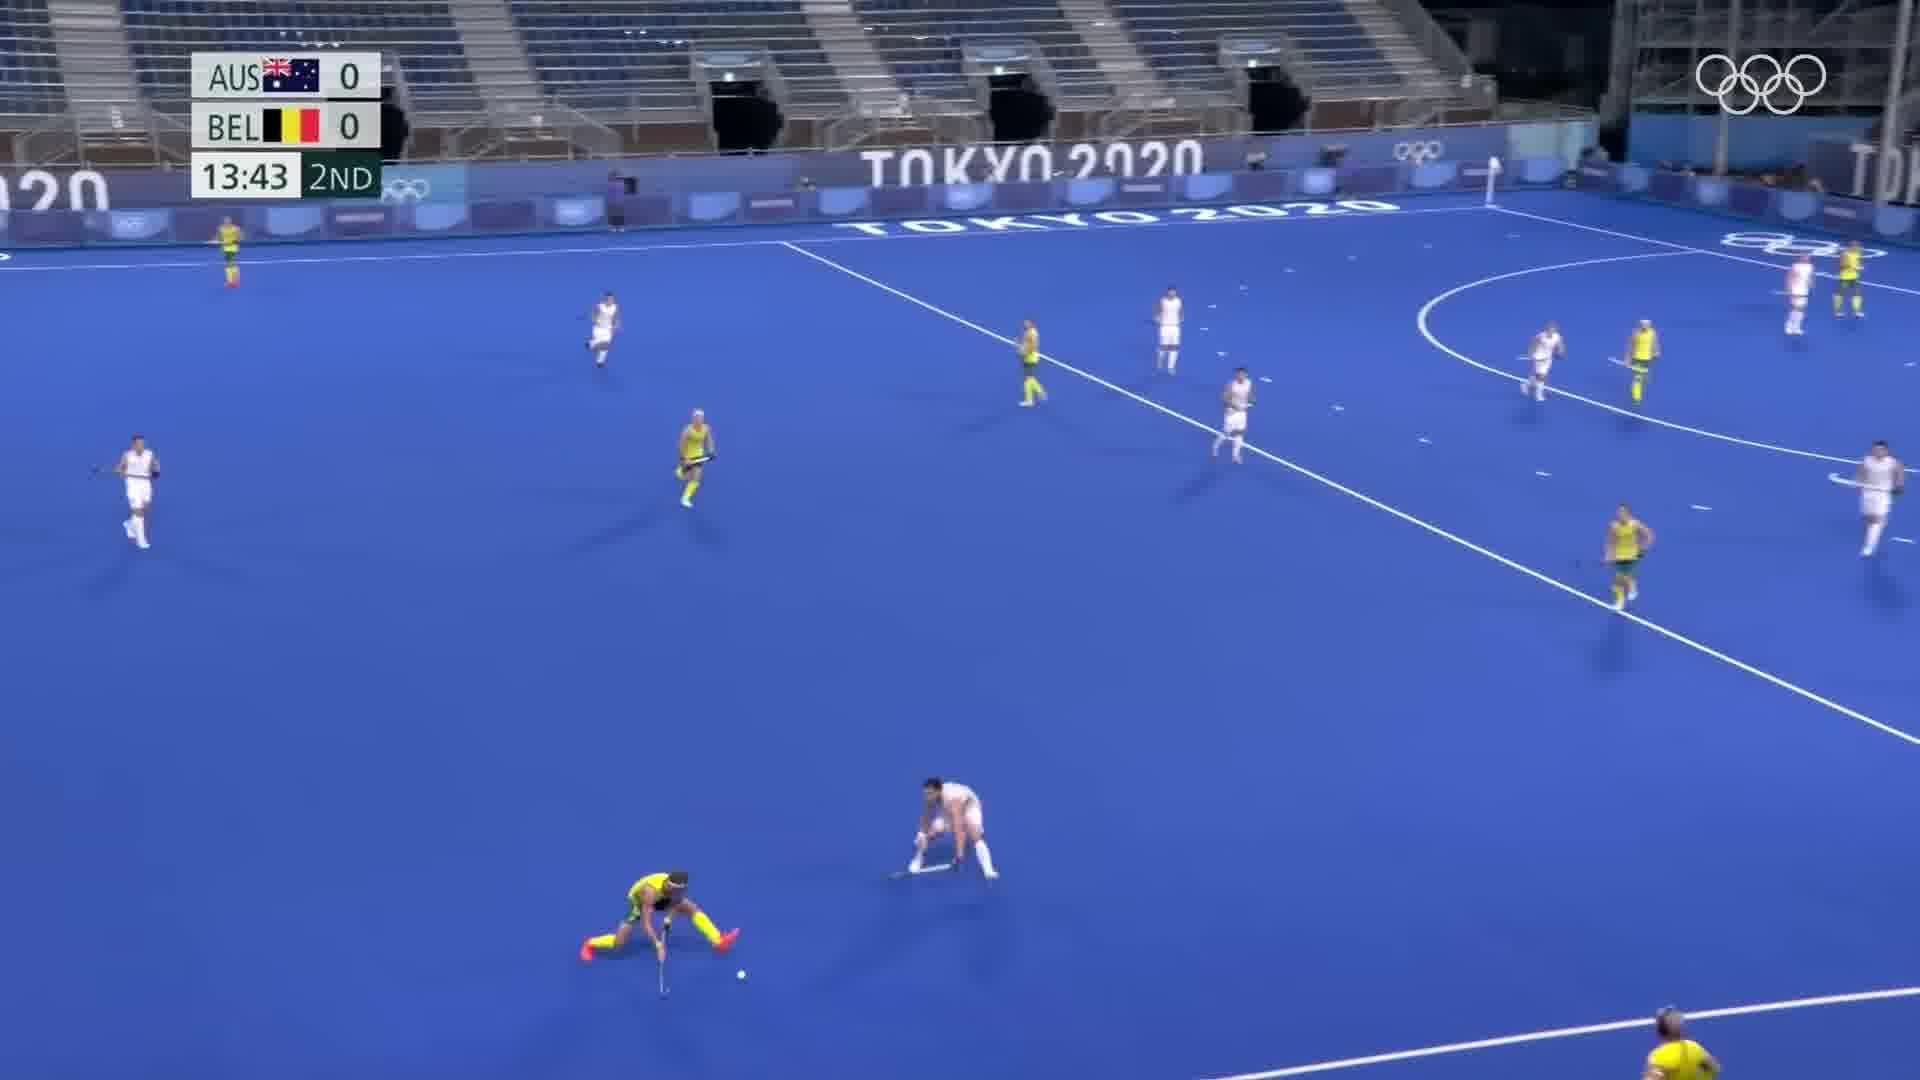ball: (732, 964, 751, 988)
